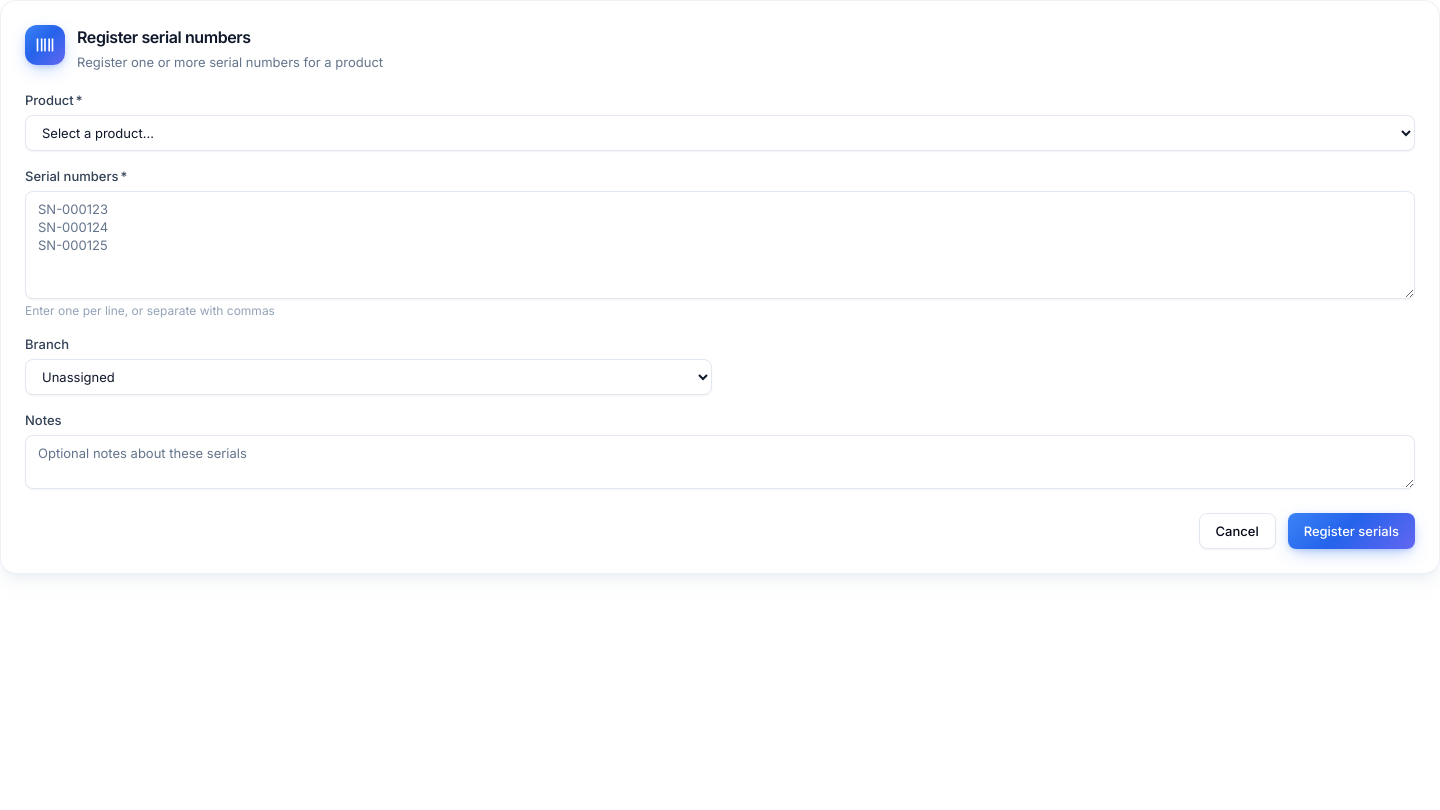
it: SerialForm (create) › shows the server error when the action rejects the input
Select "Laptop (LAP-1)" in the dropdown labelled "Product*" at (720, 133), box [25,115,1415,151]
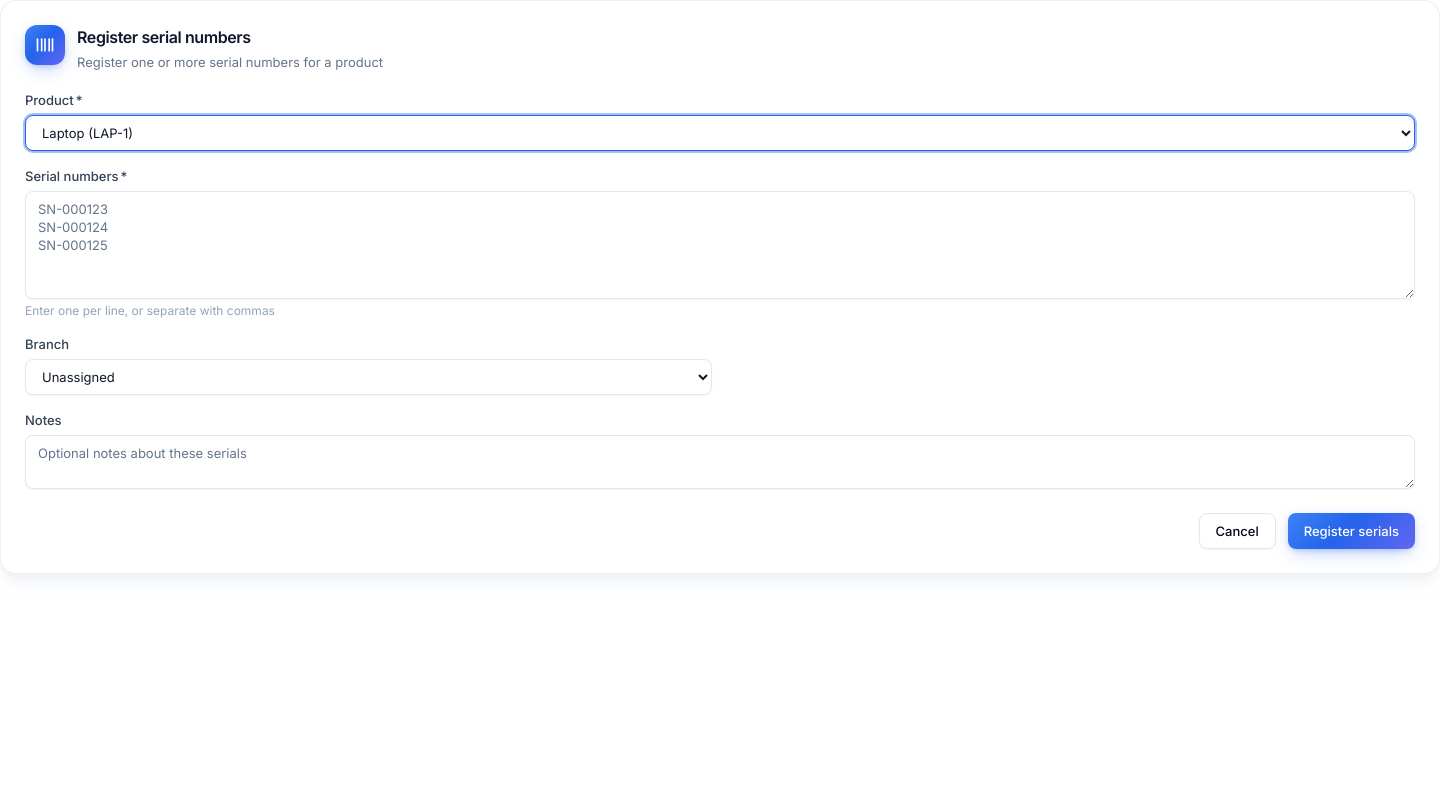
Type "SN-1" into the text box labelled "Serial numbers*" at (720, 245), box [25,191,1415,299]
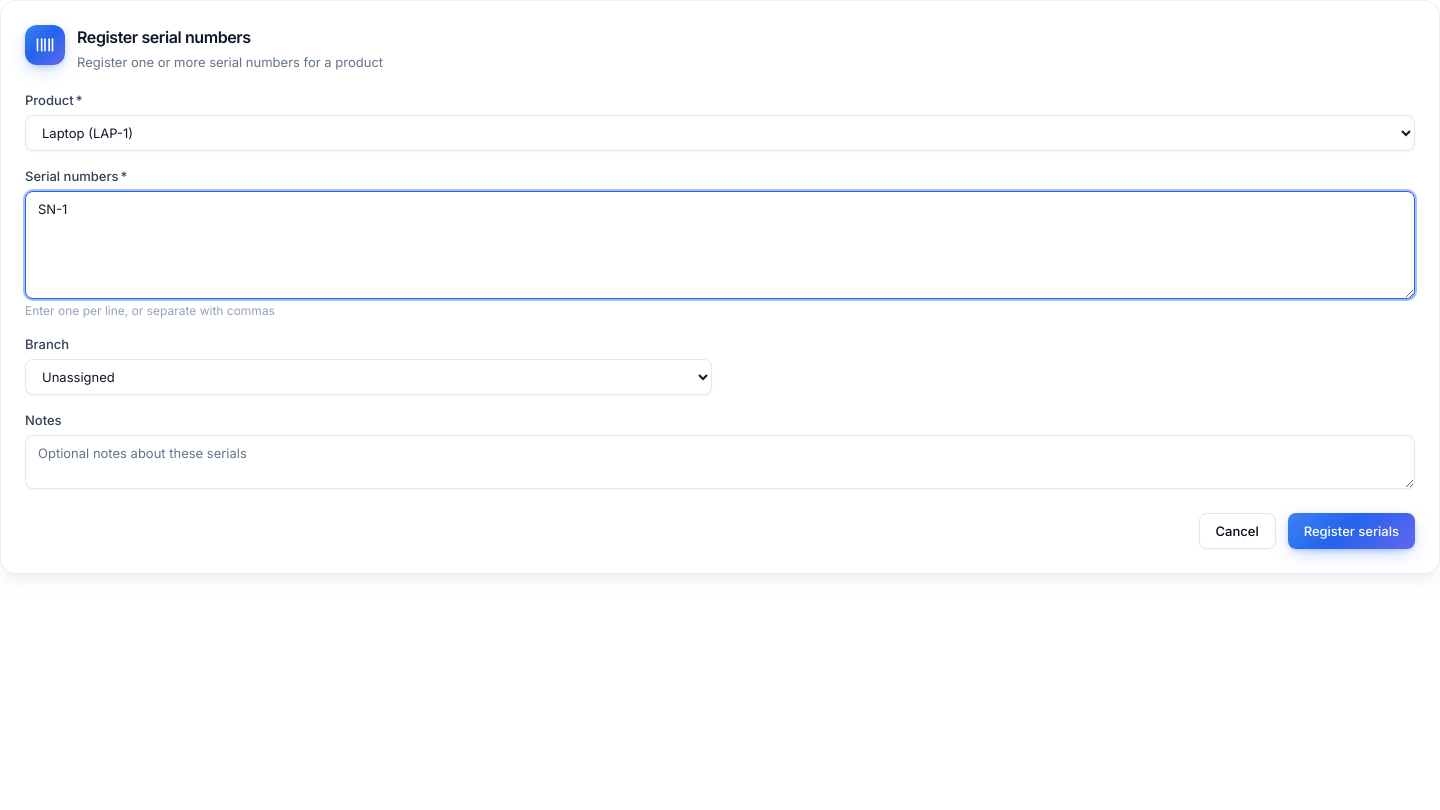
Click the button "Register serials" at (1351, 531), box [1288,513,1415,549]
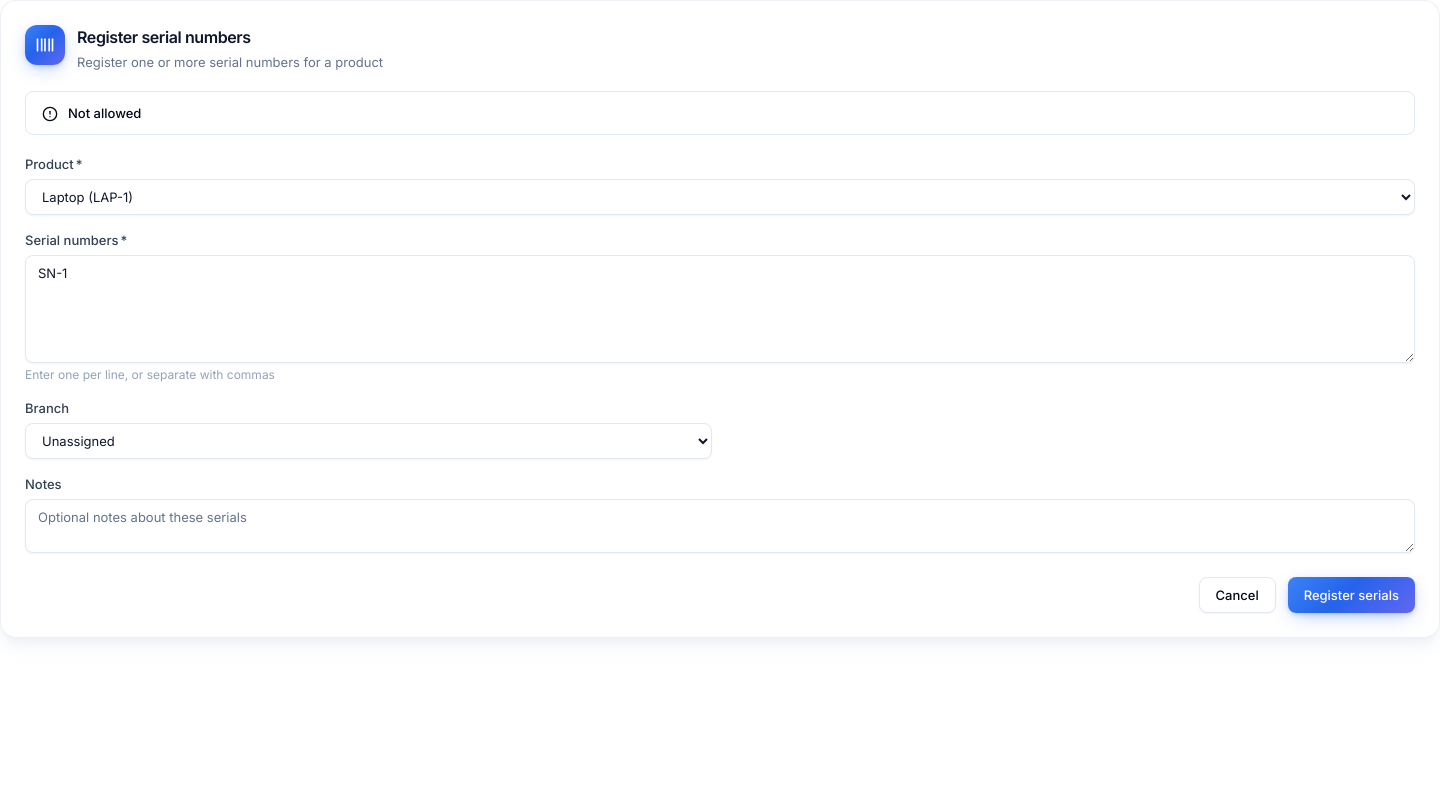
Now the text "Not allowed" is shown, box [68,104,141,122]
